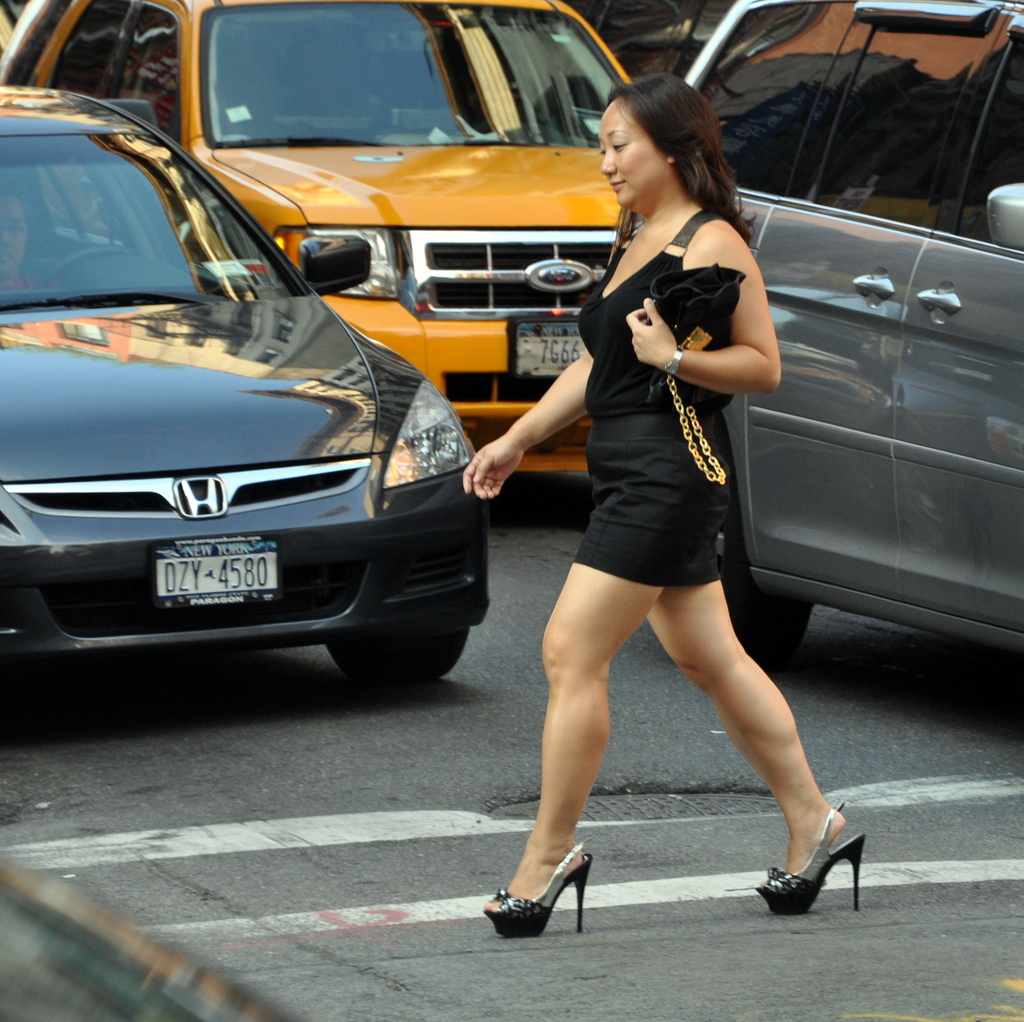Car: (0, 0, 632, 465), (678, 0, 1023, 659), (540, 0, 732, 139)
